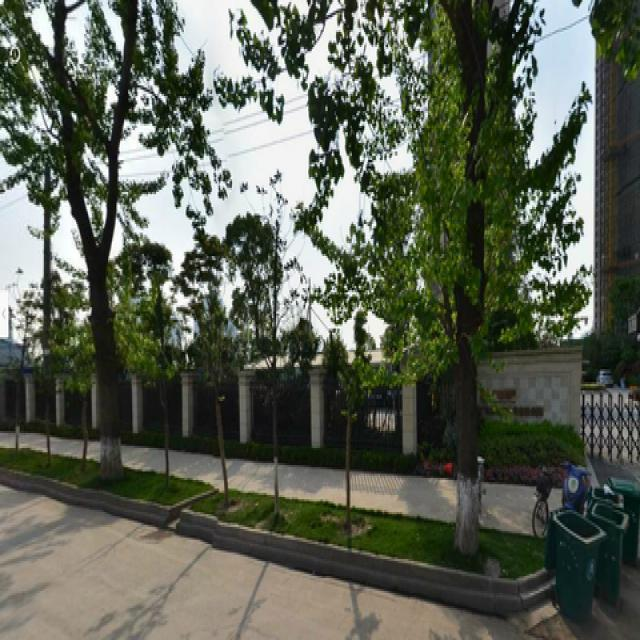gink: (371, 6, 513, 495), (29, 30, 159, 463)
